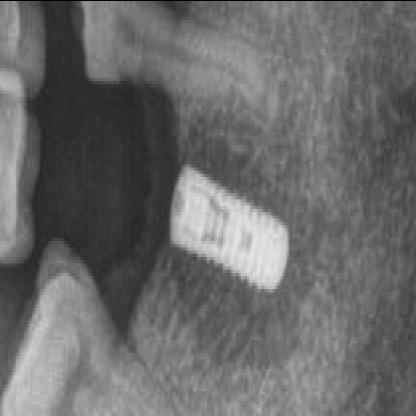ITI: (160, 135, 298, 315)
